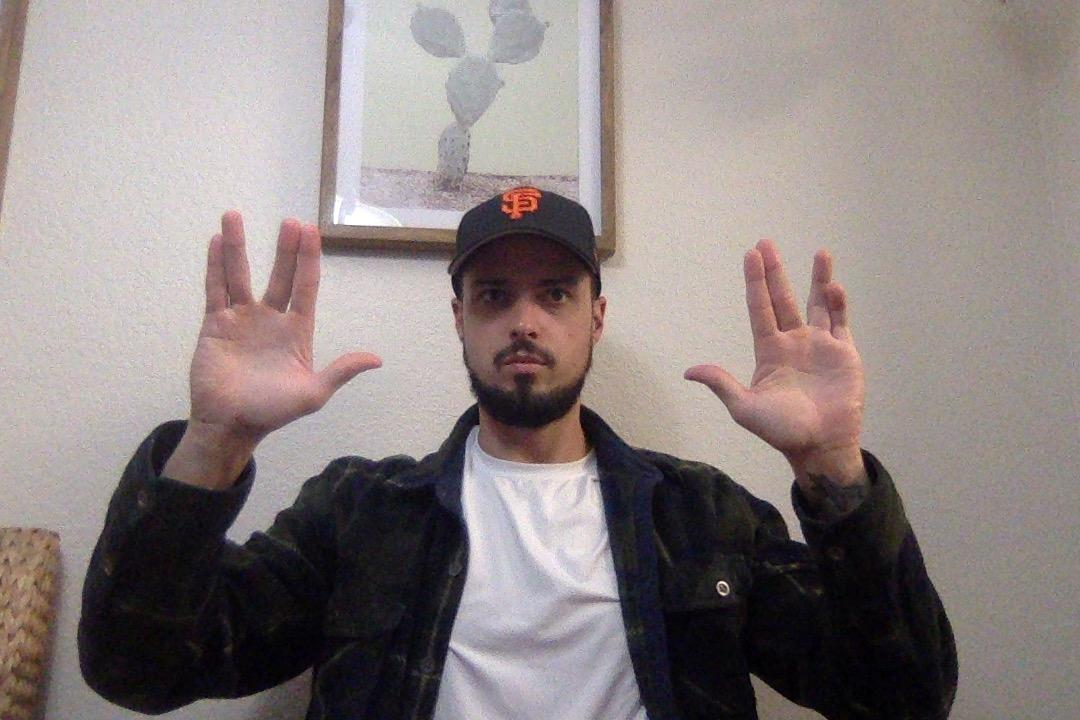Live-Long-Prosper: (180, 203, 387, 457), (677, 233, 890, 471)
